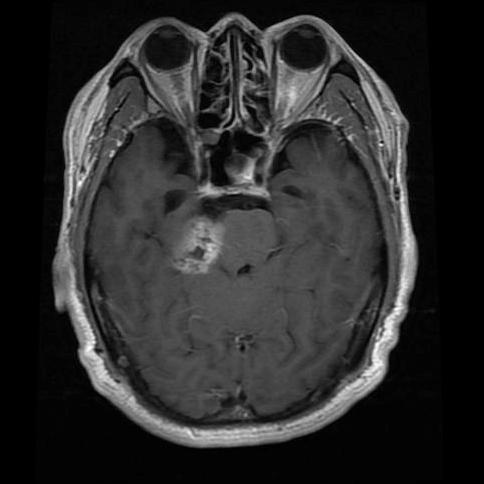Tumour-Meningioma: (165, 215, 242, 279)
